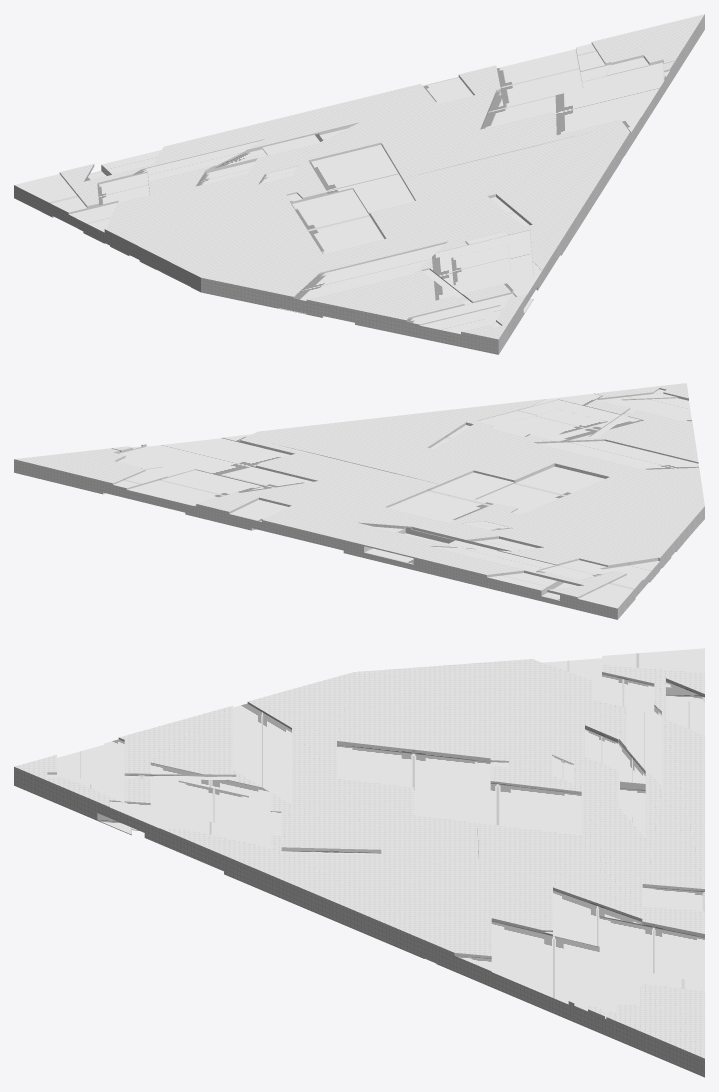
Rendered from basic_platform_45.fbx.
3 renders of one model, top to bottom at view 1: azimuth 30°, elevation 25°; view 2: azimuth 150°, elevation 25°; view 3: azimuth 270°, elevation 25°, orthographic. The views are drawn at different scales.
Visible parts, largest first — view 1: BasicPlatform_45.001; view 2: BasicPlatform_45.001; view 3: BasicPlatform_45.001.
Part boxes in pixels (x1,y1,x2,y2): BasicPlatform_45.001: [14, 14, 704, 354]; BasicPlatform_45.001: [14, 383, 704, 619]; BasicPlatform_45.001: [14, 648, 704, 1077].
Size of the model in its own units: 195 by 138 by 4.17.
Materials: 1 (1 with a texture image).
